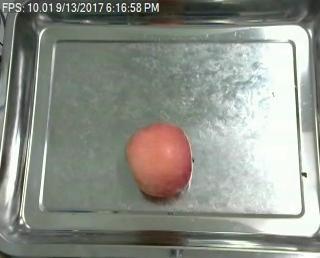apple: (125, 123, 195, 197)
